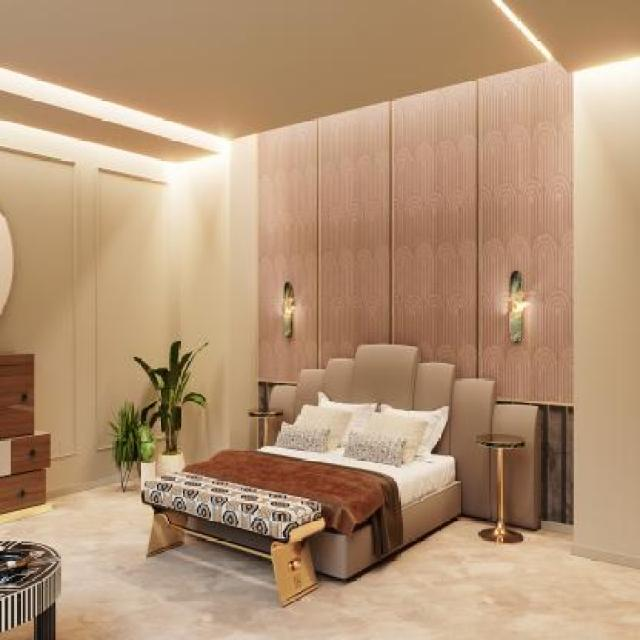floor: (0, 468, 640, 640), (554, 539, 640, 637), (544, 530, 623, 613)
